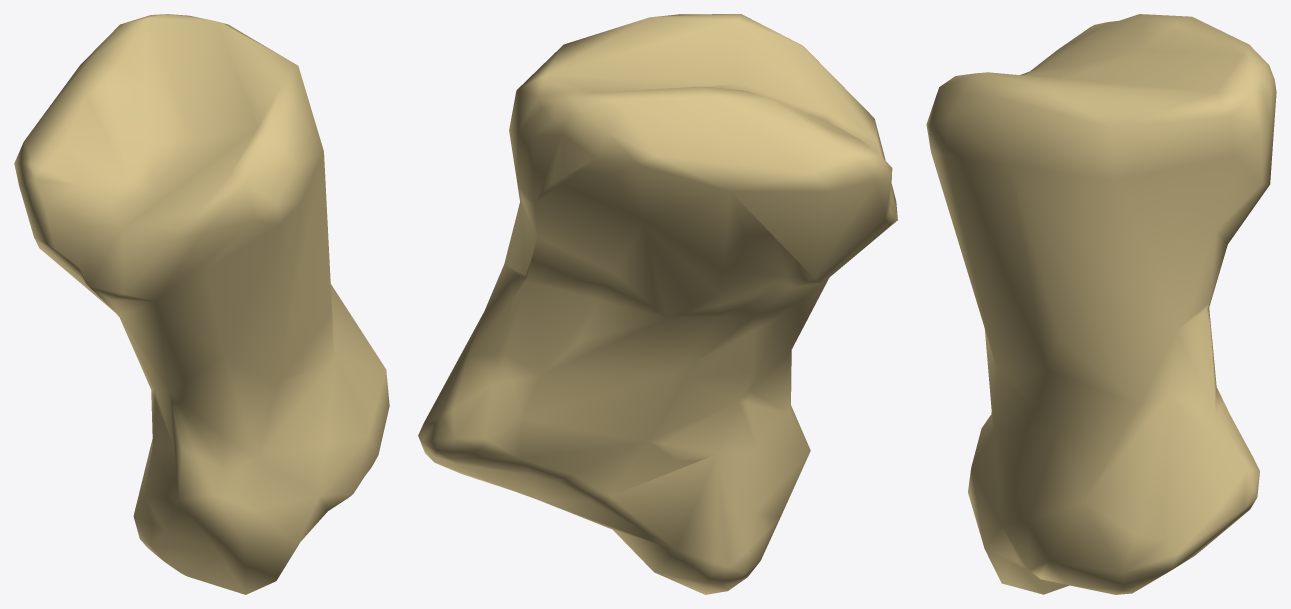
3 views of the same model, side by side, from view 1: azimuth 30°, elevation 25°; view 2: azimuth 150°, elevation 25°; view 3: azimuth 270°, elevation 25° (orthographic). The views are drawn at different scales.
Parts seen in each view (by area): view 1: 左侧第四趾中节趾骨; view 2: 左侧第四趾中节趾骨; view 3: 左侧第四趾中节趾骨.
Part boxes in pixels (bbox=[...]): 左侧第四趾中节趾骨: bbox=[14, 14, 389, 594]; 左侧第四趾中节趾骨: bbox=[418, 14, 897, 594]; 左侧第四趾中节趾骨: bbox=[926, 14, 1276, 594].
Size of the model in its own units: 0.0164 by 0.0207 by 0.0123.
